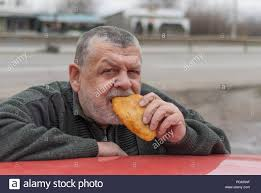eating: (47, 21, 199, 136)
